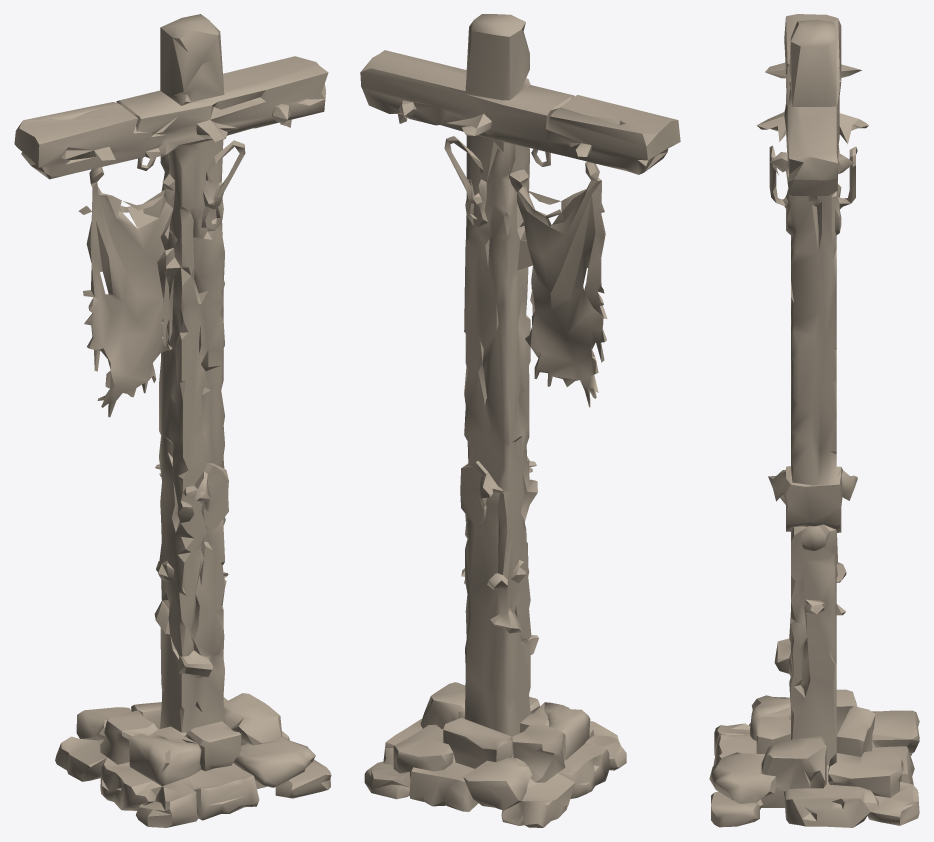
The model's file is kit_awning_post.glb.
3 renders of one model, left to right at view 1: azimuth 30°, elevation 25°; view 2: azimuth 150°, elevation 25°; view 3: azimuth 270°, elevation 25°, orthographic.
Visible parts, largest first — view 1: awning_post; view 2: awning_post; view 3: awning_post.
Part boxes in pixels (box(x1,y1,x2,y2)): awning_post: box(14, 14, 331, 827); awning_post: box(360, 14, 680, 827); awning_post: box(709, 14, 919, 827).
Bounding box in the file's own units: 1.06 × 2.6 × 0.6564.
